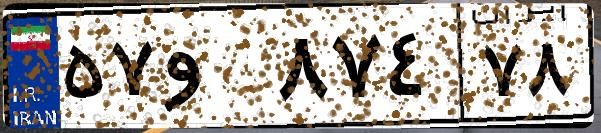4: (385, 28, 445, 110)
5: (57, 26, 110, 100)
7: (330, 28, 385, 110), (475, 38, 525, 113), (110, 28, 158, 98)
8: (270, 28, 330, 110), (525, 38, 570, 115)
و: (158, 20, 270, 120)
